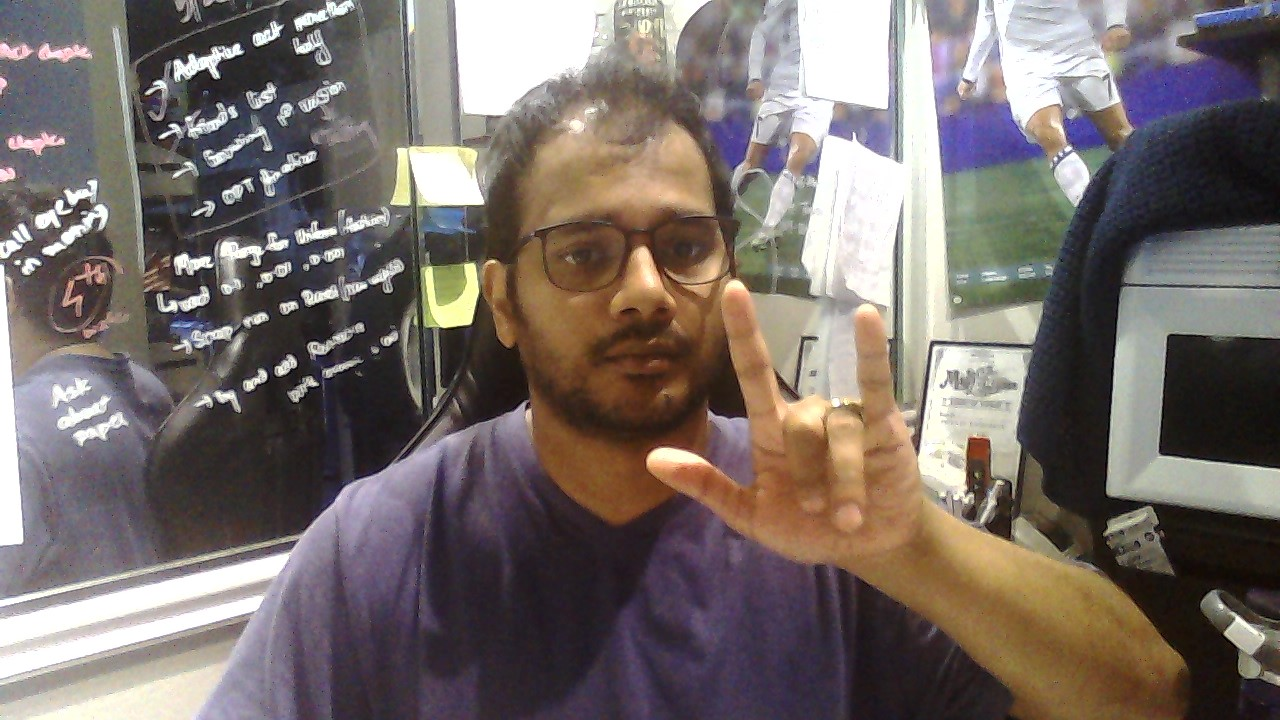ILoveYou: (645, 279, 921, 565)
